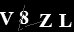8: (19, 10, 29, 25)
L: (57, 13, 72, 28)
V: (1, 11, 14, 26)
Z: (38, 13, 53, 28)
